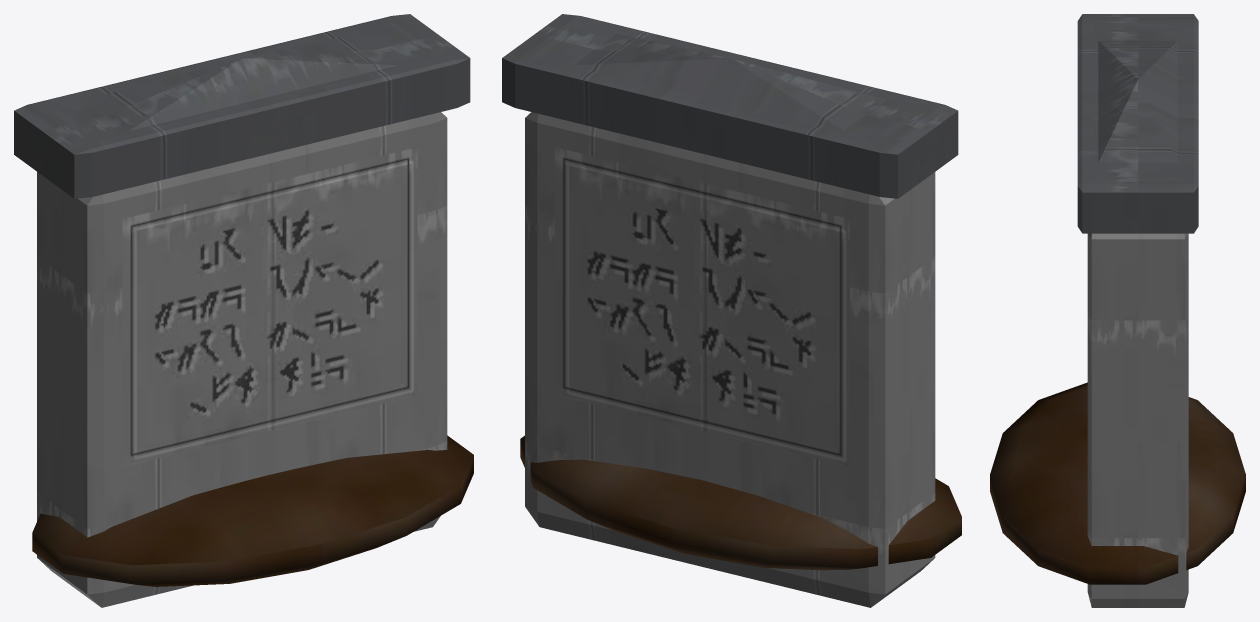
The model's file is tstone3.glb.
3 renders of one model, left to right at view 1: azimuth 30°, elevation 25°; view 2: azimuth 150°, elevation 25°; view 3: azimuth 270°, elevation 25°, orthographic. The views are drawn at different scales.
Parts seen in each view (by area): view 1: box; view 2: box; view 3: box.
Boxes of the visible parts, x1,y1,x2,y2 form: box: (14, 14, 473, 607); box: (502, 14, 961, 607); box: (990, 14, 1245, 607).
Size of the model in its own units: 0.8109 by 0.926 by 0.4731.
5 materials, 5 textured.
